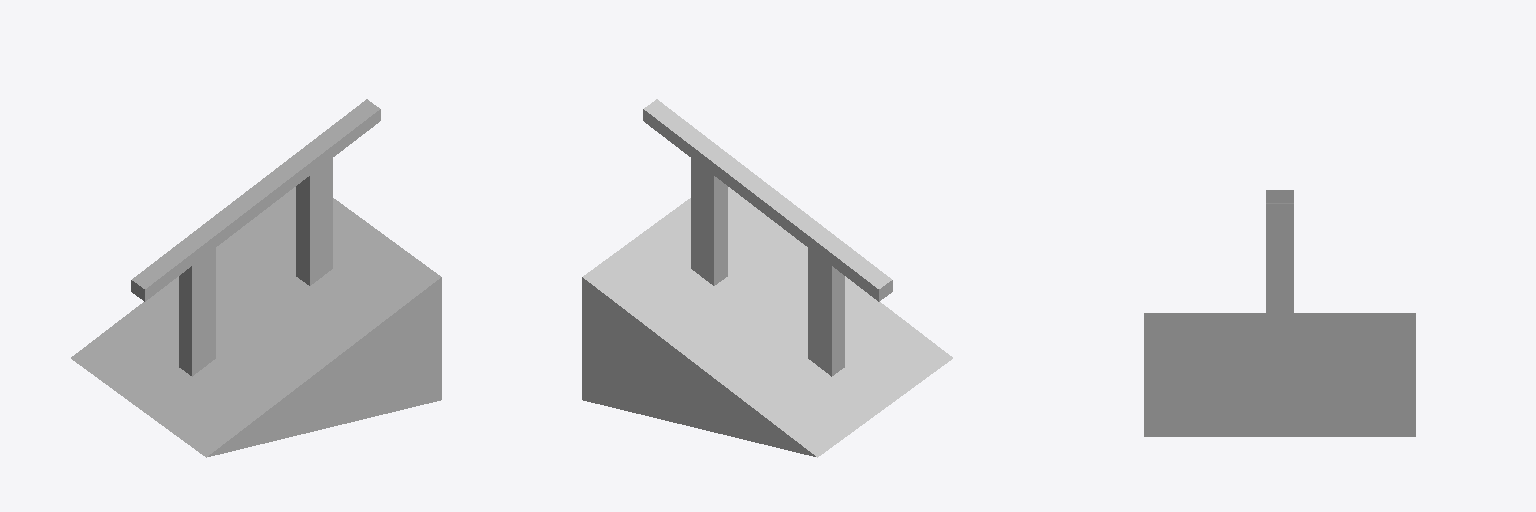
Rendered from Rail_Ramp_Tall.obj.
3 renders of one model, left to right at view 1: azimuth 30°, elevation 25°; view 2: azimuth 150°, elevation 25°; view 3: azimuth 270°, elevation 25°, orthographic.
Visible parts, largest first — view 1: Rail_Ramp_Tall; view 2: Rail_Ramp_Tall; view 3: Rail_Ramp_Tall.
Part boxes in pixels (x1,y1,x2,y2): Rail_Ramp_Tall: (71, 99, 441, 457); Rail_Ramp_Tall: (582, 99, 952, 457); Rail_Ramp_Tall: (1144, 190, 1415, 436).
Size of the model in its own units: 10 by 10 by 10.